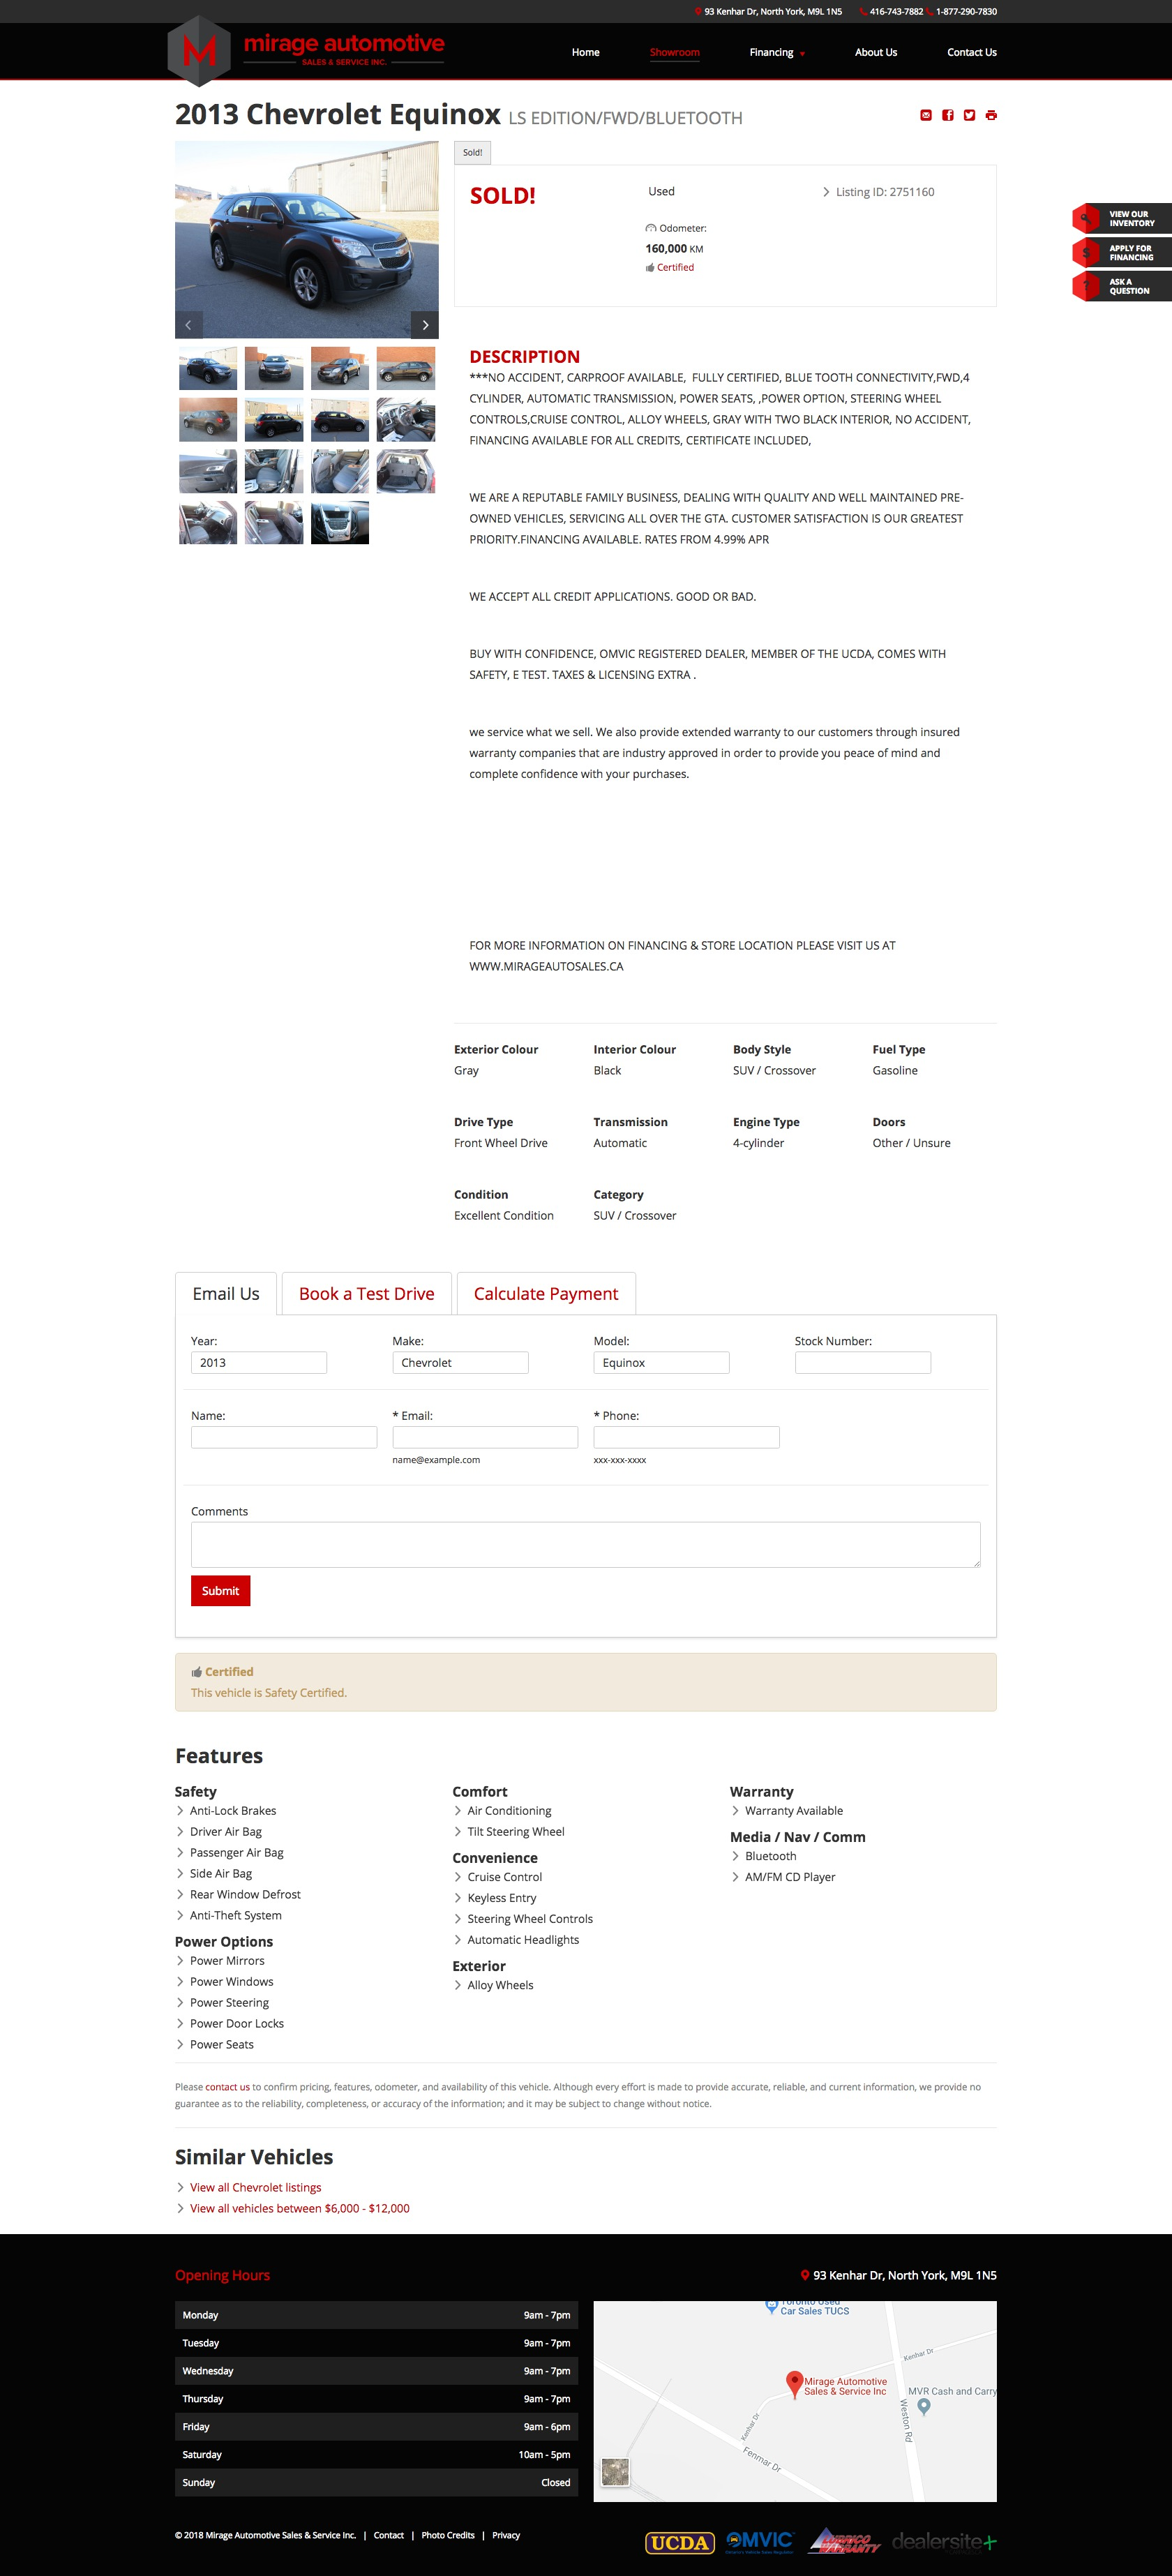car: (411, 310, 441, 340)
